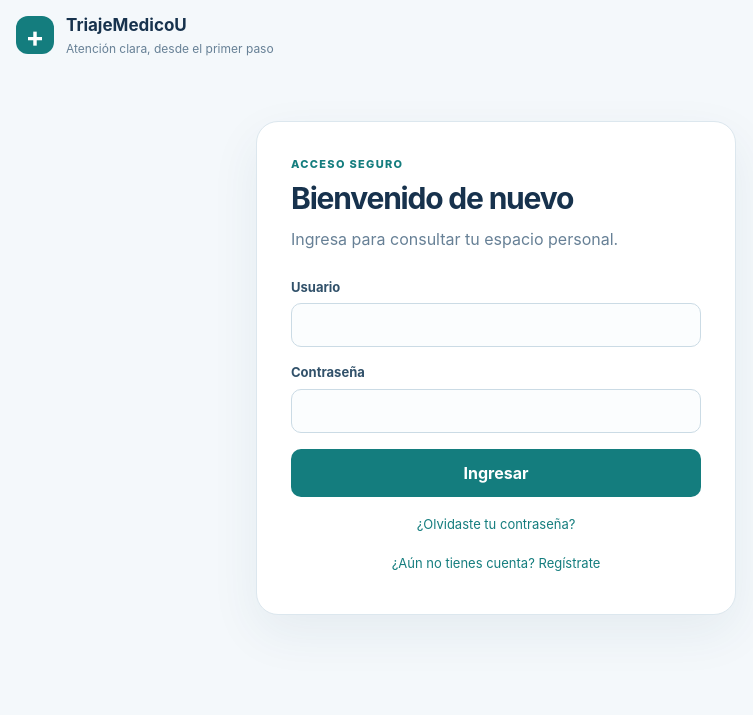
Test: authentication flow › shows recovery success and API errors
The width and height of the screenshot is (753, 715).
Expected: the heading "Bienvenido de nuevo" is shown, [291,180,573,216]
Click the button "¿Olvidaste tu contraseña?": x=496, y=524 [411,508,581,540]
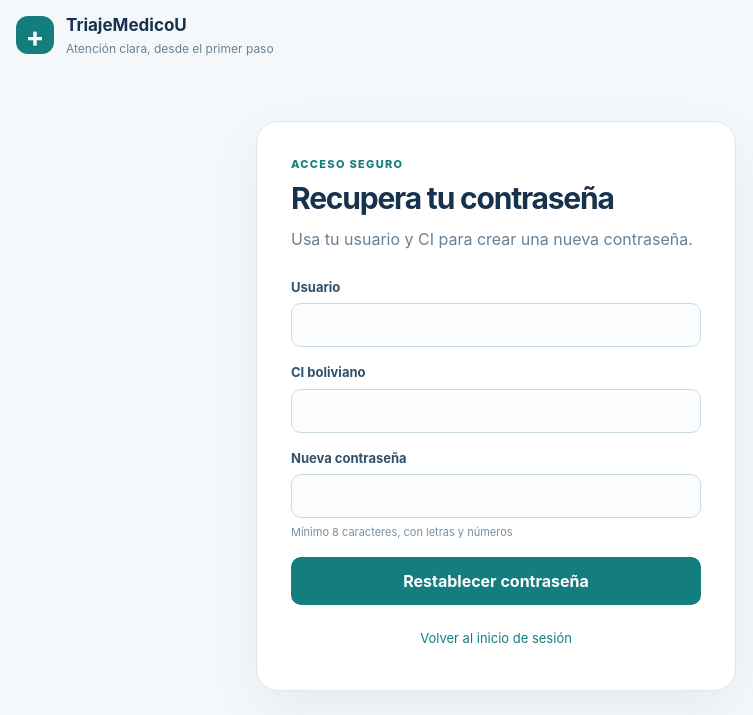
In the field labelled "Usuario": x=496, y=325 [291,303,701,347], type "patient"
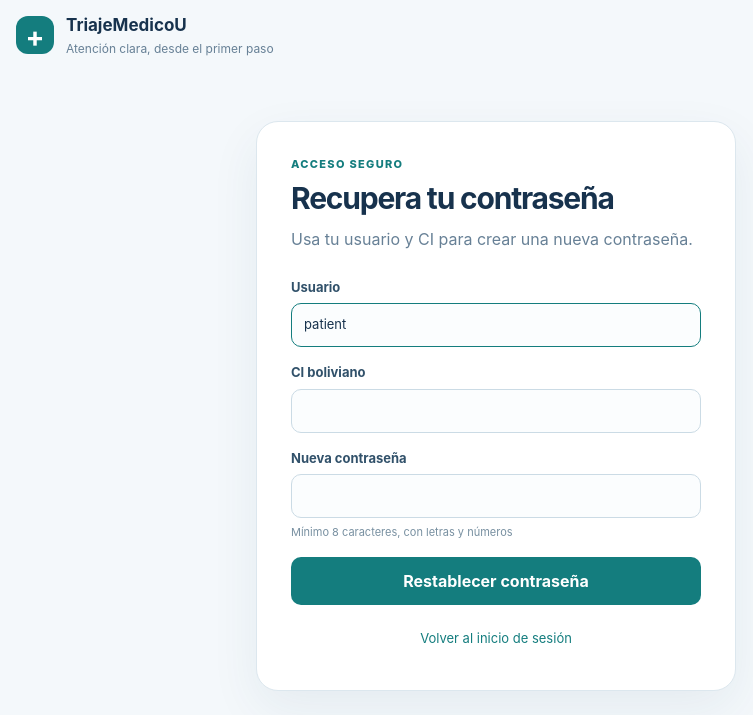
In the field labelled "CI boliviano": x=496, y=410 [291,388,701,432], type "12345"
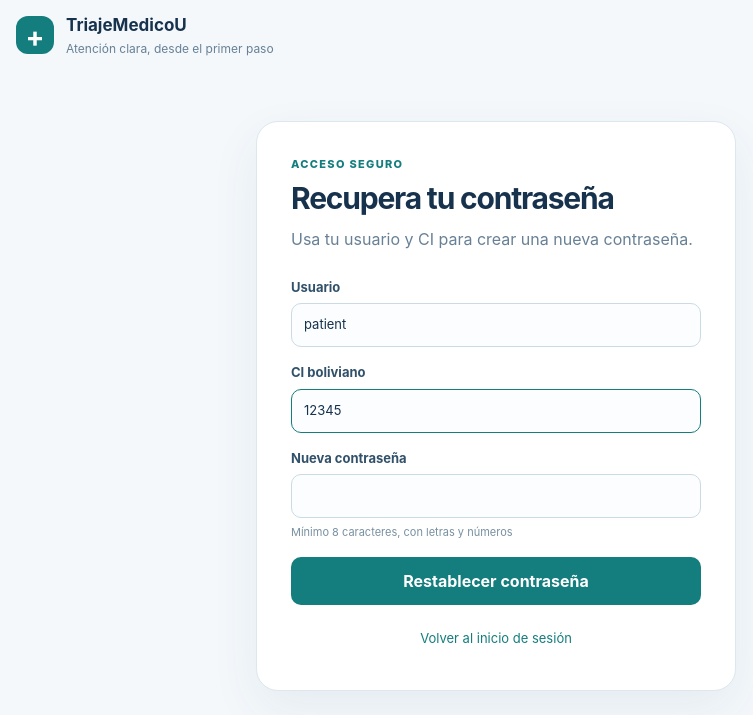
In the password field with id "newPassword": x=496, y=496 [291,474,701,518], type "NewSecret123"
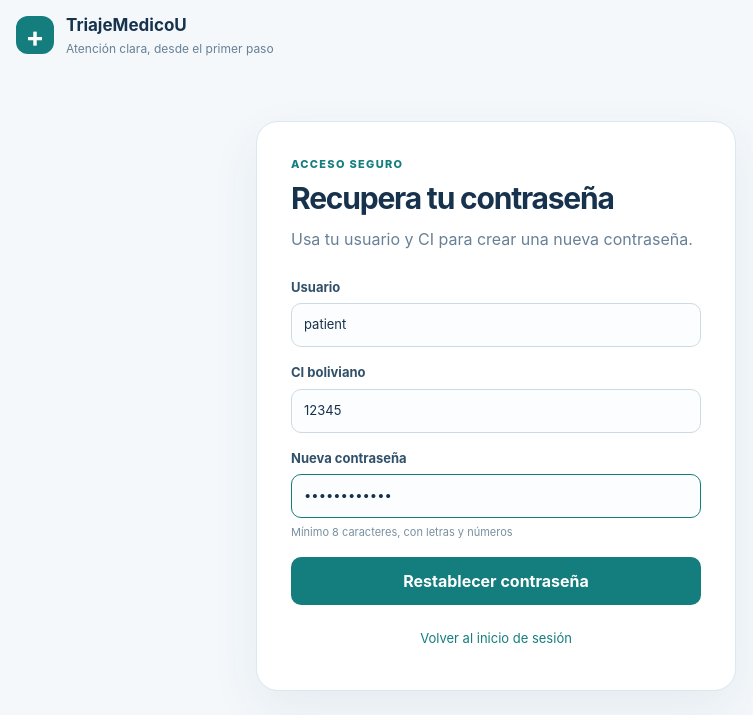
Click the button "Restablecer contraseña": x=496, y=580 [291,556,701,604]
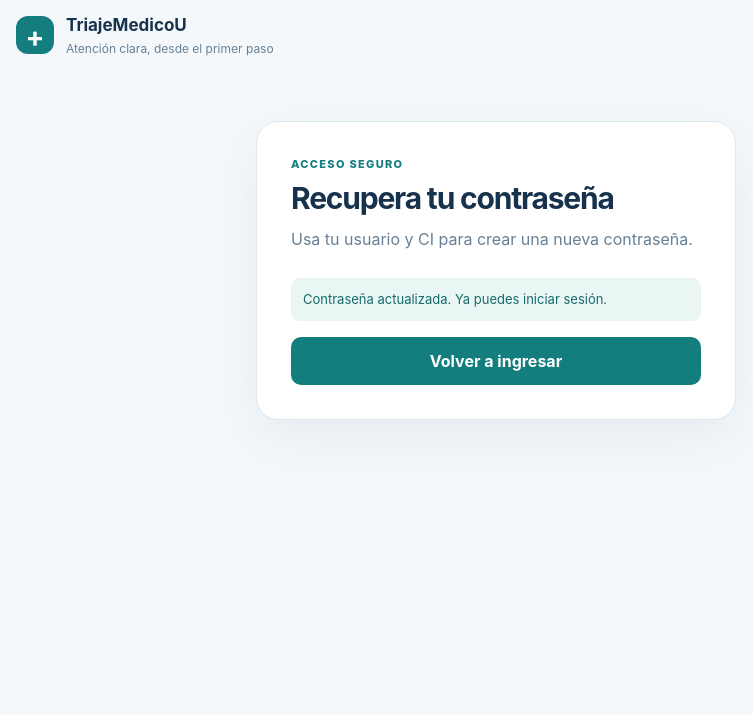
Result: the message shows "Contraseña actualizada" at [303,290,607,306]
